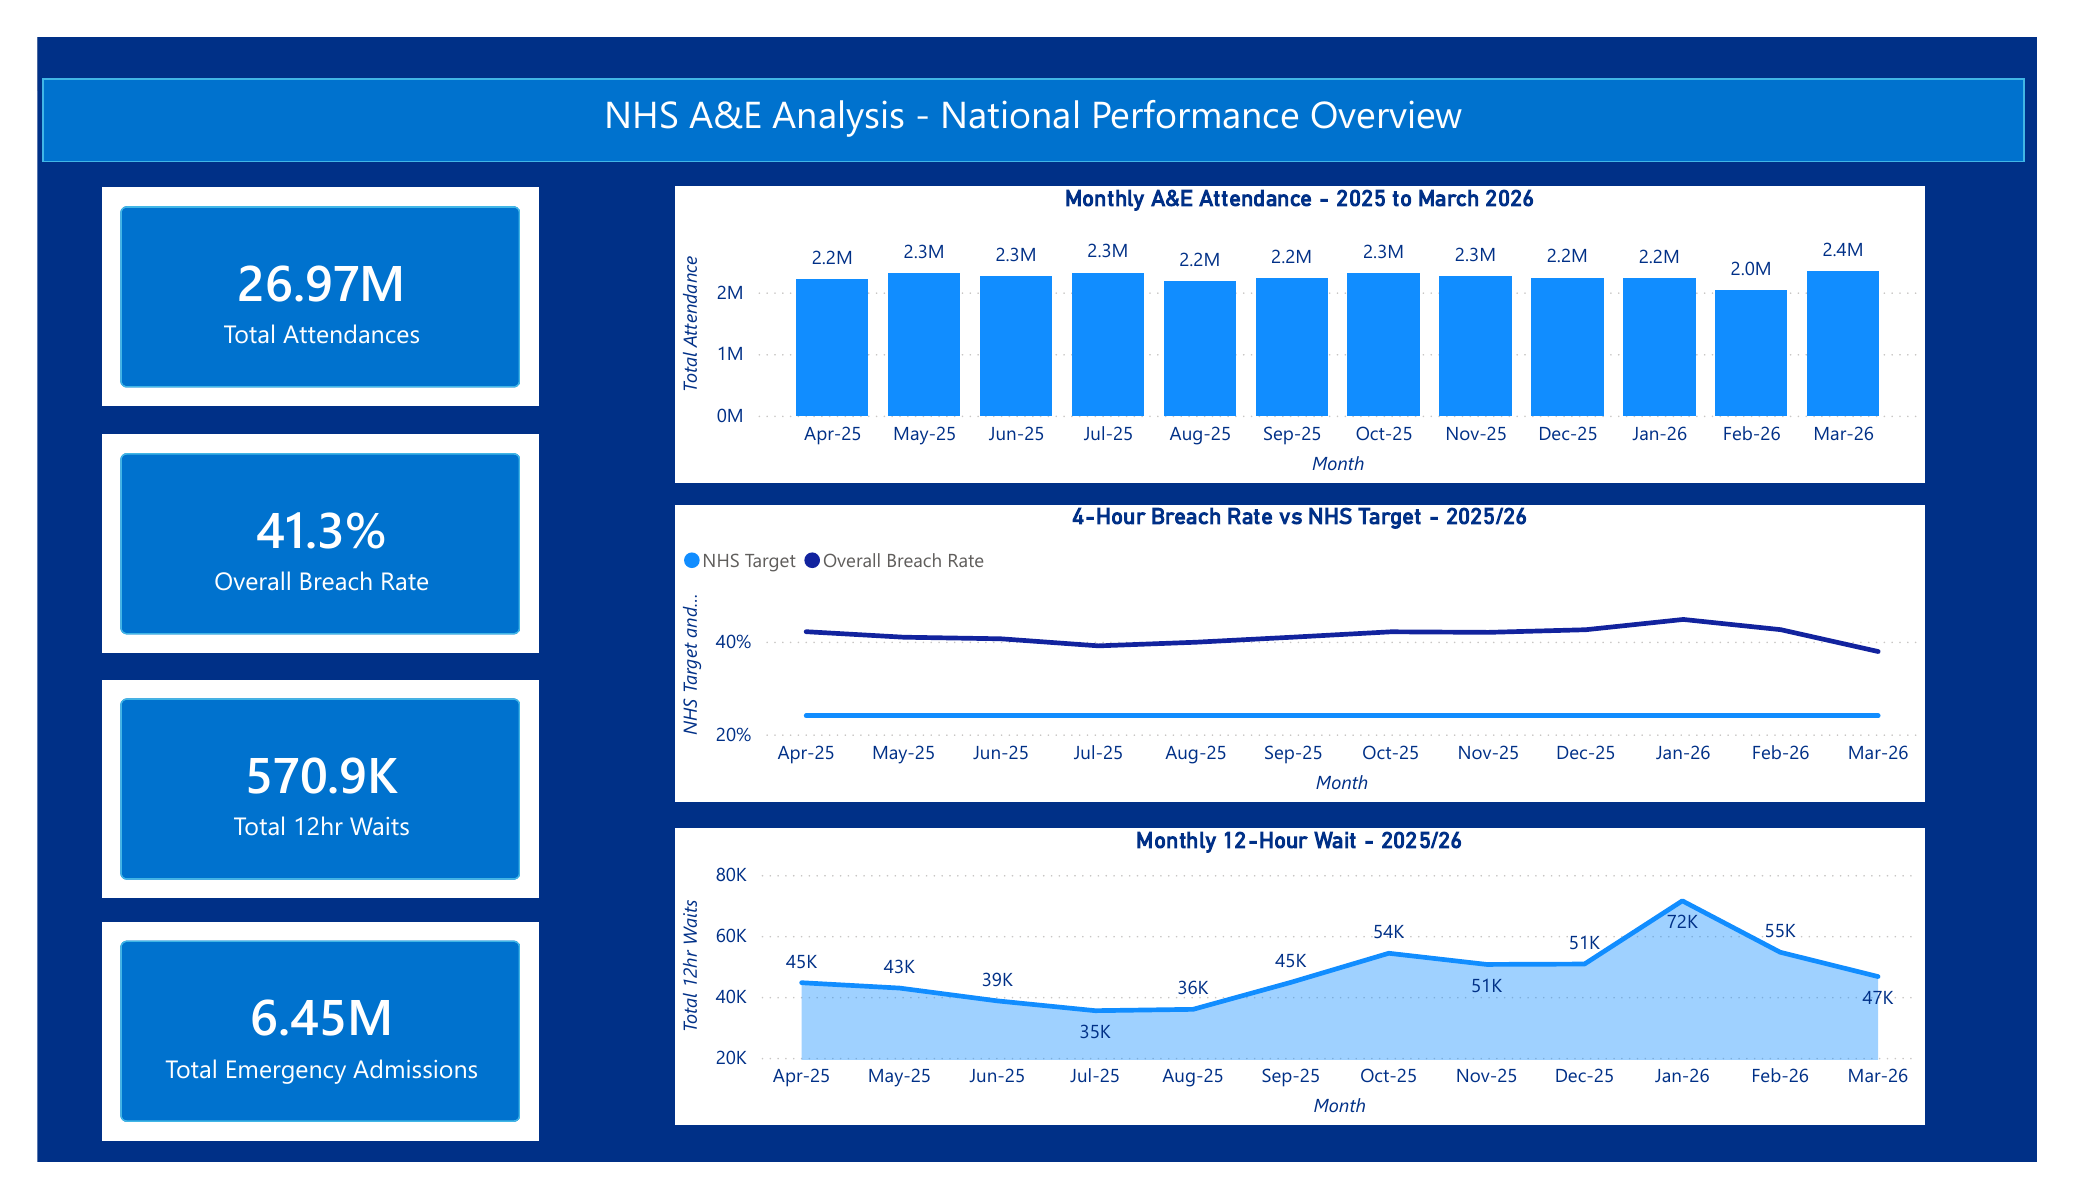

The page's visual inventory and layout, read from the dashboard file:
{"tool":"powerbi","page":{"name":"National Performance Overview","canvas":[1280,720],"ordinal":0},"visuals":[{"type":"cardVisual","fields":{"Data":["monthly_summary.Total Attendances"]},"box":[41.1,95.6,280,140],"z":0},{"type":"cardVisual","fields":{"Data":["monthly_summary.Overall Breach Rate"]},"box":[41.1,254.4,280,140],"z":1000},{"type":"cardVisual","fields":{"Data":["monthly_summary.Total 12hr Waits"]},"box":[41.1,411.1,280,140],"z":2000},{"type":"cardVisual","fields":{"Data":["monthly_summary.Total Emergency Admissions"]},"box":[41.1,565.6,280,140],"z":3000},{"type":"textbox","box":[2.9,26.3,1269.3,53.5],"z":4000},{"type":"clusteredColumnChart","title":"Monthly A&E Attendance -  2025 to March 2026","fields":{"Y":["monthly_summary.Total Attendances"],"Category":["monthly_summary.Month.Variation.Date Hierarchy.Year"]},"box":[408,95,800,190],"z":5000},{"type":"lineChart","title":"4-Hour Breach Rate vs NHS Target - 2025/26","fields":{"Y":["monthly_summary.NHS Target","monthly_summary.Overall Breach Rate"],"Category":["monthly_summary.Month"]},"box":[408,299,800,190],"z":6000},{"type":"areaChart","title":"Monthly 12-Hour Wait - 2025/26","fields":{"Category":["monthly_summary.Month"],"Y":["monthly_summary.Total 12hr Waits"]},"box":[408,506,800,190],"z":7000}]}

Visuals, with their boxes on the page's 1280x720 design canvas (x1, y1, x2, y2). These are canvas units, not pixel positions in the 2075x1200 screenshot, which may show the page scaled, cropped or inside an application window:
cardVisual - monthly_summary.Total Attendances: [41,96,321,236]
cardVisual - monthly_summary.Overall Breach Rate: [41,254,321,394]
cardVisual - monthly_summary.Total 12hr Waits: [41,411,321,551]
cardVisual - monthly_summary.Total Emergency Admissions: [41,566,321,706]
textbox: [3,26,1272,80]
"Monthly A&E Attendance -  2025 to March 2026" clusteredColumnChart: [408,95,1208,285]
"4-Hour Breach Rate vs NHS Target - 2025/26" lineChart: [408,299,1208,489]
"Monthly 12-Hour Wait - 2025/26" areaChart: [408,506,1208,696]
